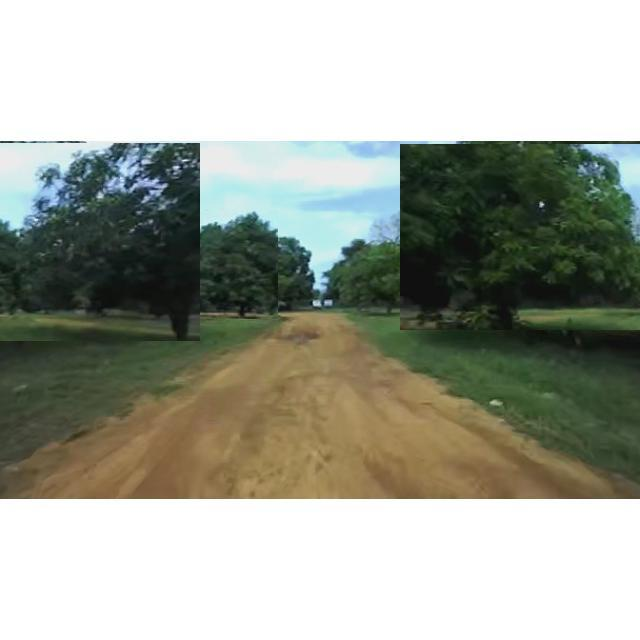direk: (400, 144, 640, 330), (0, 143, 200, 341), (182, 211, 278, 319), (340, 232, 442, 322), (250, 231, 316, 311)
